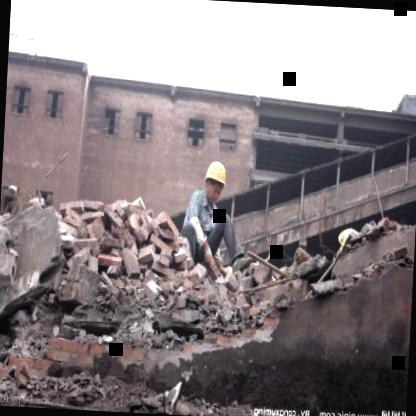helmet: (202, 156, 229, 204)
